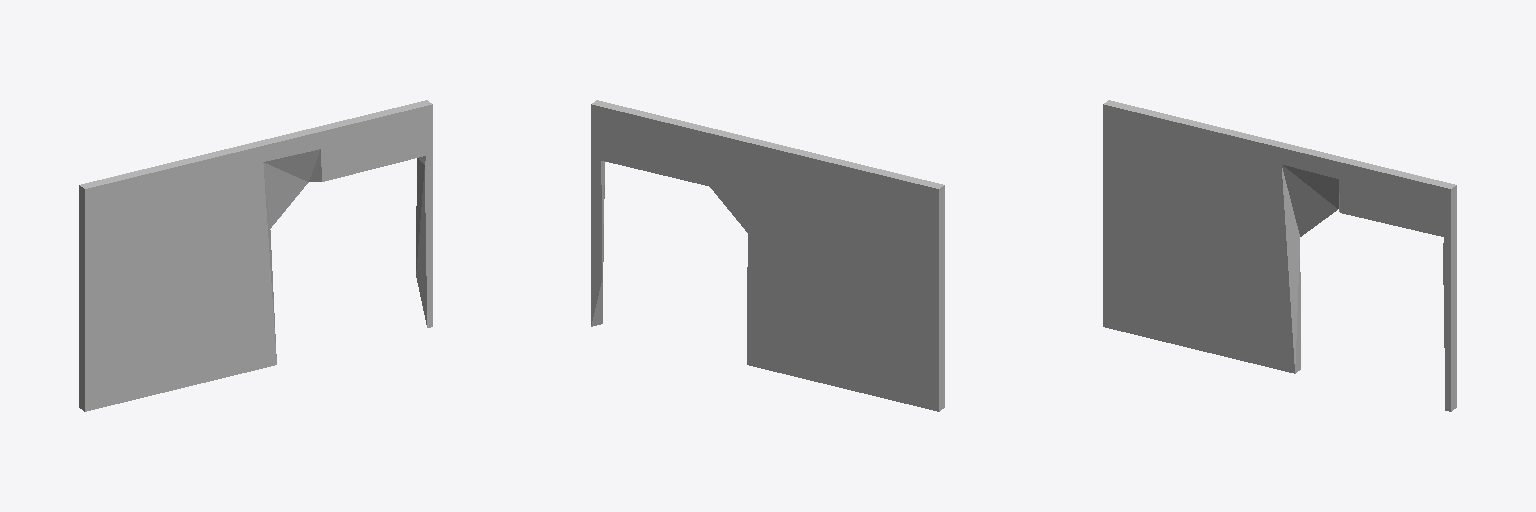
Rendered from old_wall_broken.obj.
The picture shows the model from 3 angles: view 1: azimuth 30°, elevation 25°; view 2: azimuth 150°, elevation 25°; view 3: azimuth 330°, elevation 25°; orthographic projection.
Bounding box in the file's own units: 2.78 × 1.7 × 0.081.